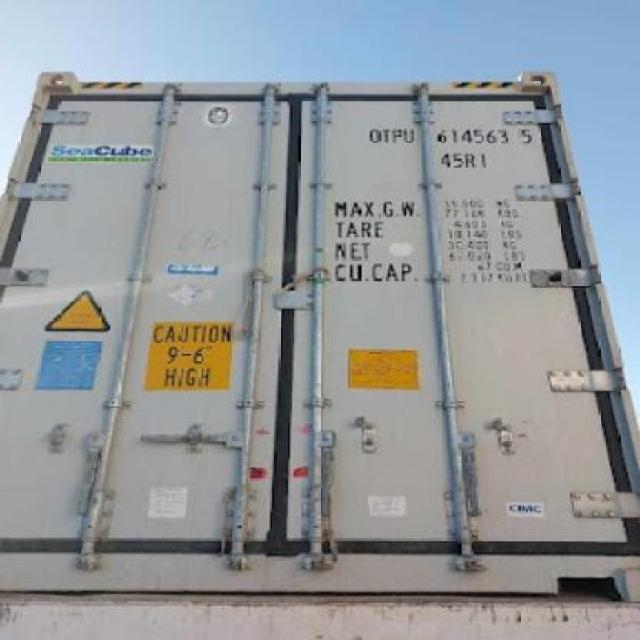ISO: (438, 150, 490, 170)
container_number: (372, 122, 536, 148)
